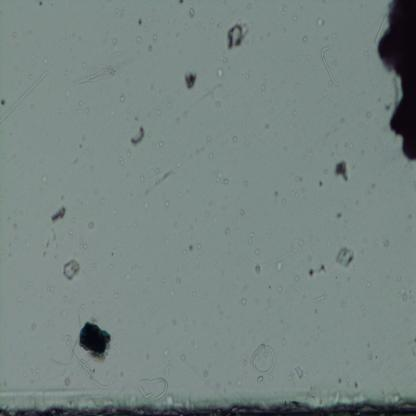Background material: (144, 168, 176, 194), (227, 19, 251, 51), (60, 258, 86, 283), (126, 129, 146, 148), (307, 263, 328, 280), (338, 248, 354, 269), (182, 70, 197, 92), (334, 162, 350, 182), (50, 206, 68, 222), (45, 226, 58, 248), (293, 362, 305, 379), (311, 15, 327, 27), (78, 235, 88, 250), (151, 140, 165, 150), (243, 68, 254, 79), (213, 174, 223, 186), (62, 375, 72, 387), (401, 287, 409, 301), (382, 237, 391, 249), (248, 229, 255, 244), (44, 282, 54, 292), (275, 261, 284, 272), (298, 238, 305, 252), (41, 172, 49, 184), (411, 337, 416, 355), (173, 276, 182, 285), (218, 53, 227, 62), (364, 109, 372, 119), (117, 95, 127, 103), (314, 294, 324, 302), (114, 5, 120, 18), (282, 0, 288, 13), (217, 67, 224, 78), (336, 210, 344, 219), (235, 379, 244, 387), (164, 350, 171, 360), (368, 352, 375, 362), (31, 321, 38, 331), (170, 317, 177, 327), (117, 368, 123, 379), (256, 375, 264, 383), (190, 291, 198, 299), (292, 80, 300, 88), (162, 199, 170, 207), (272, 189, 280, 197), (300, 35, 308, 43), (182, 109, 189, 118), (12, 220, 18, 230), (318, 178, 324, 188), (245, 1, 252, 9), (223, 226, 230, 234), (287, 373, 294, 381), (72, 157, 79, 165), (187, 243, 194, 251), (11, 30, 18, 38), (136, 35, 143, 43), (118, 156, 123, 167), (261, 82, 266, 93), (92, 259, 98, 268), (242, 297, 248, 306), (143, 201, 148, 211), (265, 121, 270, 131), (156, 108, 162, 116), (189, 8, 195, 16), (255, 266, 261, 274), (110, 248, 116, 256), (14, 206, 20, 214), (281, 338, 287, 346), (0, 98, 6, 106), (42, 57, 48, 65), (276, 285, 282, 292), (177, 161, 184, 167), (291, 110, 298, 116), (203, 370, 209, 377), (68, 230, 74, 237), (181, 314, 187, 321), (146, 44, 152, 51), (216, 22, 223, 28), (366, 282, 373, 288), (344, 377, 351, 383), (88, 221, 94, 228), (82, 60, 87, 68), (286, 99, 291, 107), (183, 21, 188, 29), (213, 259, 218, 267), (93, 186, 98, 194), (354, 381, 359, 389), (153, 34, 158, 42), (208, 152, 213, 160), (138, 18, 143, 26), (81, 136, 86, 144), (113, 208, 118, 216), (84, 107, 90, 113), (244, 355, 247, 367), (360, 149, 366, 155), (71, 218, 77, 224), (386, 104, 392, 110), (214, 102, 220, 108), (218, 82, 224, 88), (63, 296, 69, 302), (108, 263, 114, 269), (292, 14, 298, 20), (84, 148, 90, 154), (218, 311, 225, 316), (176, 117, 181, 124), (244, 180, 249, 187), (232, 136, 237, 143), (112, 37, 117, 44), (349, 142, 354, 149), (78, 99, 83, 106), (168, 99, 172, 107), (18, 296, 22, 304), (282, 198, 286, 206), (256, 247, 260, 255), (90, 164, 94, 172), (224, 179, 229, 185), (370, 183, 376, 188), (78, 142, 83, 148), (182, 353, 186, 360), (296, 276, 300, 283), (140, 175, 144, 182), (240, 207, 244, 214), (323, 169, 328, 174), (338, 379, 343, 384), (183, 326, 188, 331), (300, 188, 304, 194), (100, 196, 103, 204), (365, 137, 369, 143), (48, 318, 51, 326), (397, 275, 401, 281), (282, 324, 288, 328), (183, 249, 187, 255), (340, 118, 344, 123), (39, 2, 43, 7), (207, 136, 211, 141), (177, 0, 182, 4), (274, 199, 278, 204), (65, 70, 68, 76), (197, 243, 200, 249), (269, 376, 273, 380), (198, 255, 202, 259), (178, 193, 182, 197), (322, 0, 326, 4), (410, 215, 413, 220), (209, 201, 212, 206), (375, 356, 378, 360), (315, 308, 317, 314), (115, 294, 118, 298), (218, 386, 221, 389), (81, 306, 84, 308)
Edge of slide: (0, 392, 416, 416)
Fragment: (80, 319, 118, 363)
Glass filter fibre: (228, 212, 288, 268), (0, 71, 49, 124), (73, 52, 134, 84), (240, 83, 264, 143), (78, 356, 112, 390), (250, 343, 277, 375), (138, 376, 171, 402), (321, 44, 339, 86), (61, 333, 81, 363), (290, 167, 306, 203), (374, 13, 389, 42), (140, 387, 152, 403), (164, 365, 174, 377)
Pen: (372, 0, 416, 165)
